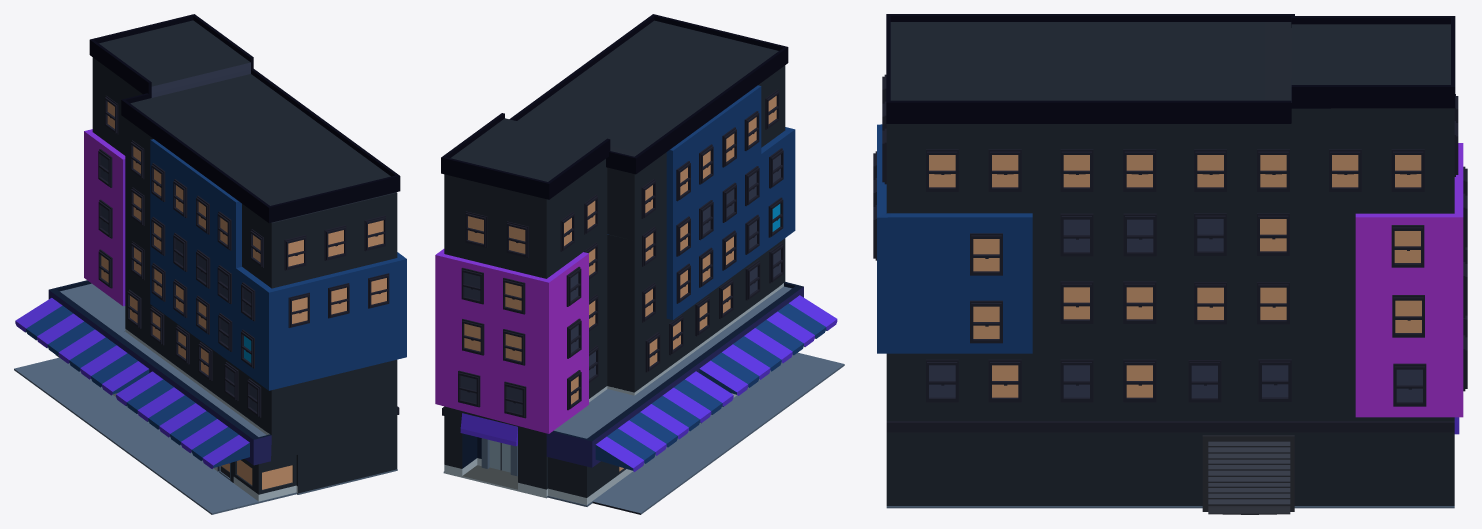
Rendered from Building_PennyVideo.fbx.
3 views of the same model, side by side, from view 1: azimuth 30°, elevation 25°; view 2: azimuth 150°, elevation 25°; view 3: azimuth 270°, elevation 25° (orthographic). The views are drawn at different scales.
Parts seen in each view (by area): view 1: Cube.777; view 2: Cube.777; view 3: Cube.777, Cube.782.
Boxes of the visible parts, <box> form: Cube.777: <box>14,14,406,514</box>; Cube.777: <box>435,14,844,514</box>; Cube.777: <box>873,14,1467,514</box>; Cube.782: <box>1208,441,1290,505</box>.
Bounding box in the file's own units: 912 × 1393 × 1757.
